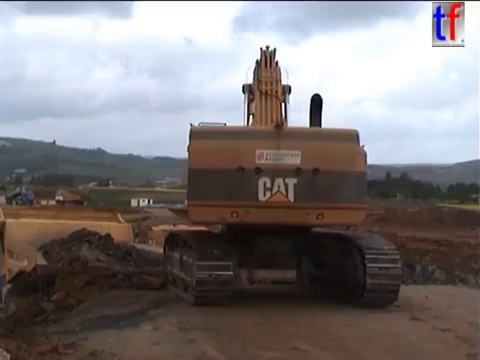excavator: (159, 42, 407, 313)
truck: (1, 204, 217, 360), (144, 220, 241, 294), (51, 189, 87, 209)
